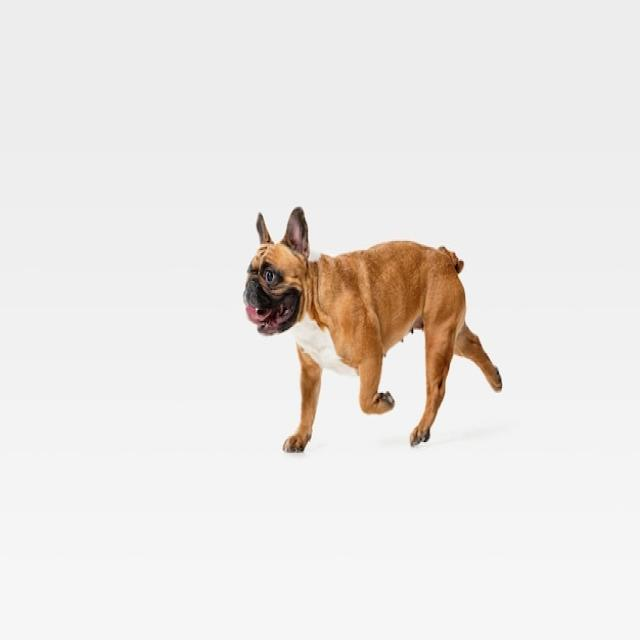Dog: (244, 206, 502, 455)
